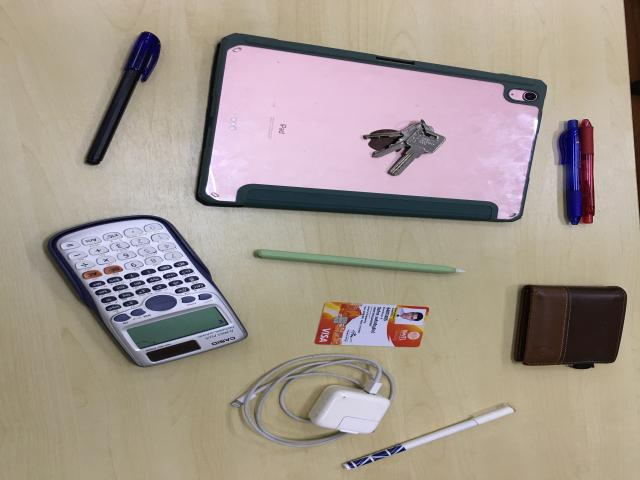Keys: (361, 120, 449, 177)
Pen: (345, 405, 514, 471), (83, 32, 161, 166), (560, 120, 596, 227)
Wallet: (512, 285, 628, 371)
wire: (229, 356, 393, 448)
